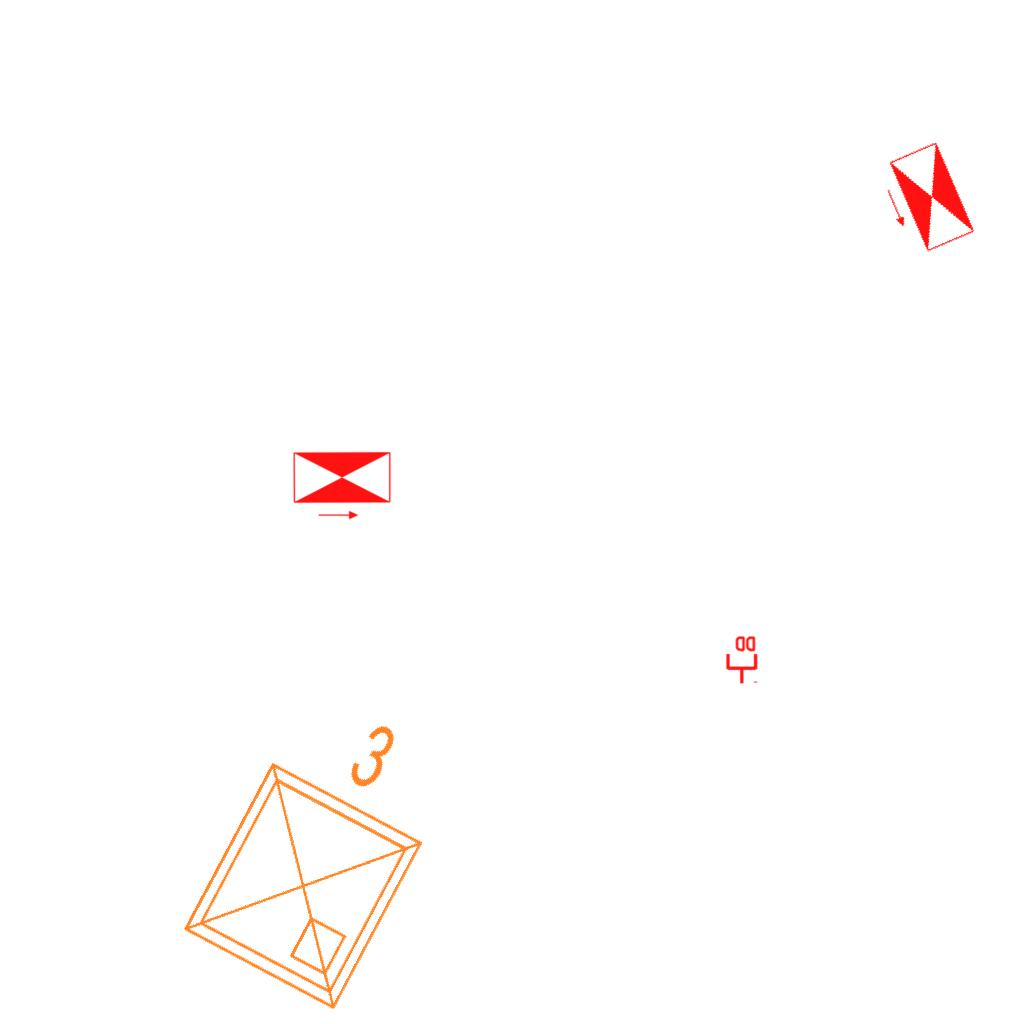Datenanschluss_zweifach: (724, 634, 758, 685)
Einbaudownlights_LED_Konferenzraeume: (156, 666, 482, 1024)
Fluchtwegpiktogramm: (870, 137, 979, 263), (290, 449, 394, 522)
